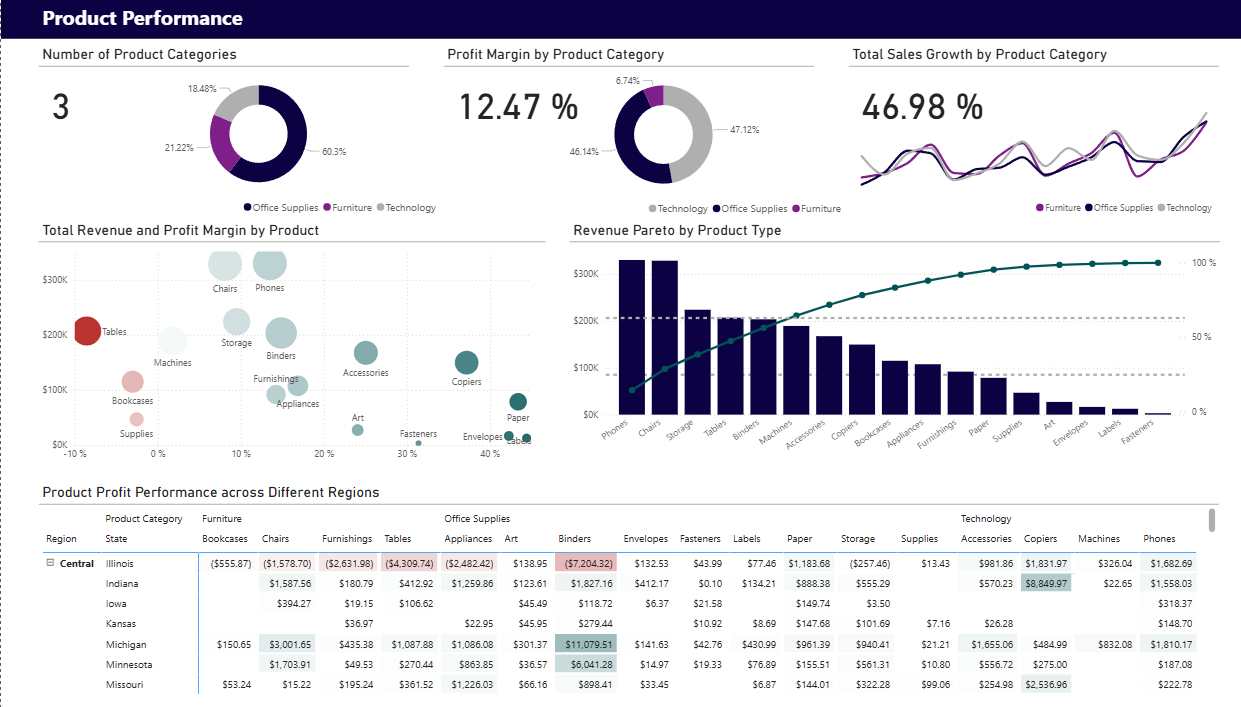

What the dashboard file says about the page in this screenshot:
{"tool":"powerbi","page":{"name":"Product Performance","canvas":[1655,951],"ordinal":3},"visuals":[{"type":"shape","box":[0,0,1655.5,52.7],"z":0},{"type":"scatterChart","title":"Total Revenue and Profit Margin by Product","fields":{"Category":["DimProduct.Category Hierarchy.Product Category","DimProduct.Category Hierarchy.Product Type"],"X":["MeasureTable.Profit Margin %"],"Size":["MeasureTable.Total Sales"],"Y":["MeasureTable.Total Revenue"]},"box":[50,295,676,328],"z":1000},{"type":"pivotTable","title":"Product Profit Performance across Different Regions","fields":{"Columns":["DimProduct.Category Hierarchy.Product Category","DimProduct.Category Hierarchy.Product Type"],"Values":["MeasureTable.Total Profit"],"Rows":["DimLocation.Location Hierarchy.Region","DimLocation.Location Hierarchy.State"]},"box":[50,646,1574,284],"z":2000},{"type":"lineClusteredColumnComboChart","title":"Revenue Pareto by Product Type","fields":{"Y":["MeasureTable.Total Revenue"],"Category":["DimProduct.Product Type"],"Y2":["MeasureTable.Cumulative Revenue %","MeasureTable.Cumulative Product %"]},"box":[757.5,295,867.5,327.5],"z":3000},{"type":"textbox","box":[50,0,350,52.9],"z":4000},{"type":"cardVisual","title":"Number of Orders by Product Category","fields":{"Data":["MeasureTable.Number of Orders"],"Rows":["DimProduct.Product Category"]},"box":[50,62,494,218],"z":5000},{"type":"cardVisual","title":"Total Sales Growth by Product Category","fields":{"Data":["MeasureTable.Total Sales Growth (%)"]},"box":[1130,62,494,218],"z":6000},{"type":"cardVisual","title":"Profit Margin by Product Category","fields":{"Data":["MeasureTable.Profit Margin %"]},"box":[590,62,494,234],"z":7000},{"type":"donutChart","fields":{"Category":["DimProduct.Product Category"],"Y":["MeasureTable.Profit Margin %"]},"box":[636,92,494,206],"z":8000},{"type":"lineChart","fields":{"Y":["MeasureTable.Total Sales by Category"],"Category":["DimCalendar.Date Hierarchy.Year","DimCalendar.Date Hierarchy.Quarter"],"Series":["DimProduct.Product Category"]},"box":[1130,120,494,176],"z":9000}]}

Visuals, with their boxes in screenshot pixels (x1, y1, x2, y2), scaled from the page's 1655x951 canvas onto the 1241x707 screenshot:
shape: 0 0 1240 39
"Total Revenue and Profit Margin by Product" scatterChart: 37 219 544 463
"Product Profit Performance across Different Regions" pivotTable: 37 480 1218 691
"Revenue Pareto by Product Type" lineClusteredColumnComboChart: 568 219 1219 463
textbox: 37 0 300 39
"Number of Orders by Product Category" cardVisual: 37 46 408 208
"Total Sales Growth by Product Category" cardVisual: 847 46 1218 208
"Profit Margin by Product Category" cardVisual: 442 46 813 220
donutChart - DimProduct.Product Category x MeasureTable.Profit Margin %: 477 68 847 222
lineChart - MeasureTable.Total Sales by Category x DimCalendar.Date Hierarchy.Year: 847 89 1218 220
